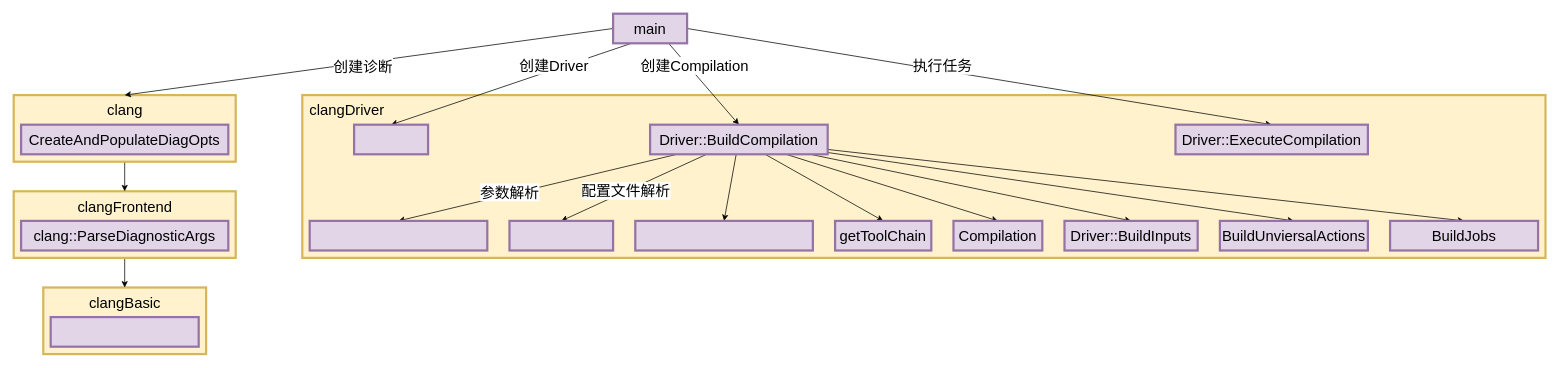
This 1559x368 diagram has some shape labels left out. The shapes that lost their labels are listed below. From the top down, each one's centre as x and y in pixels, then its label:
At (391,139): "Driver".
At (398,235): "Driver::ParseArgStrings".
At (561,235): "loadConfigFile".
At (724,235): "computeTargetTriple".
At (124,331): "DiagnosticsEngine".
